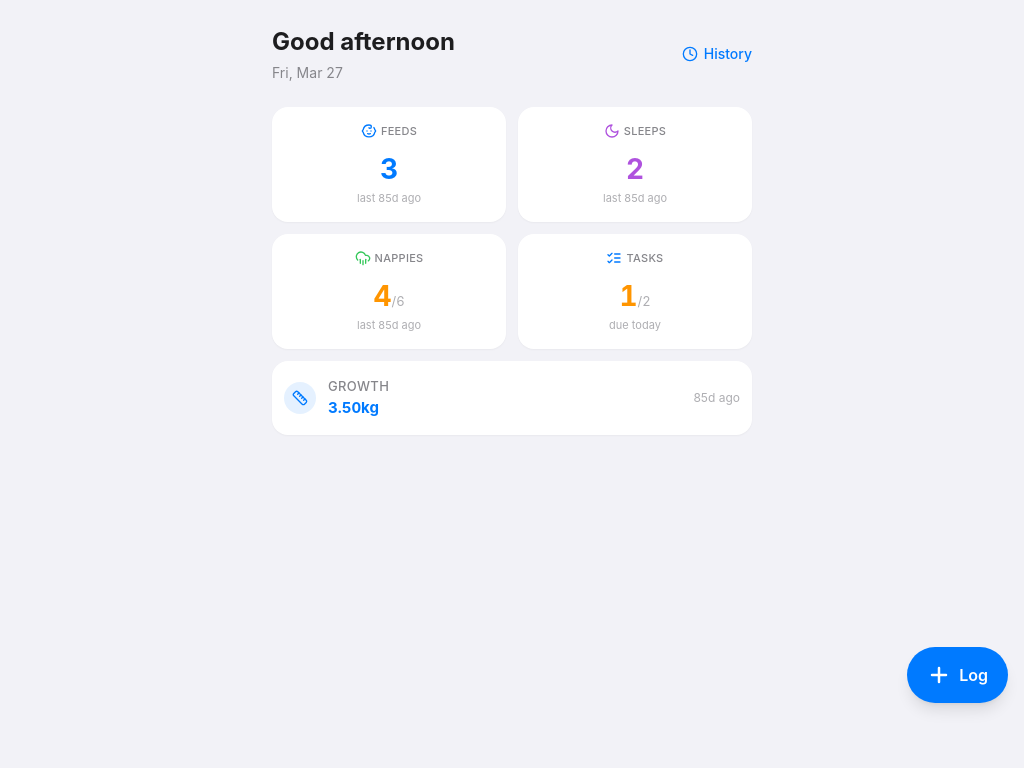
it: Dashboard › opens quick-add modal and starts sleep timer
Click the button "Log".
click(958, 675)  # box [907,647,1008,703]
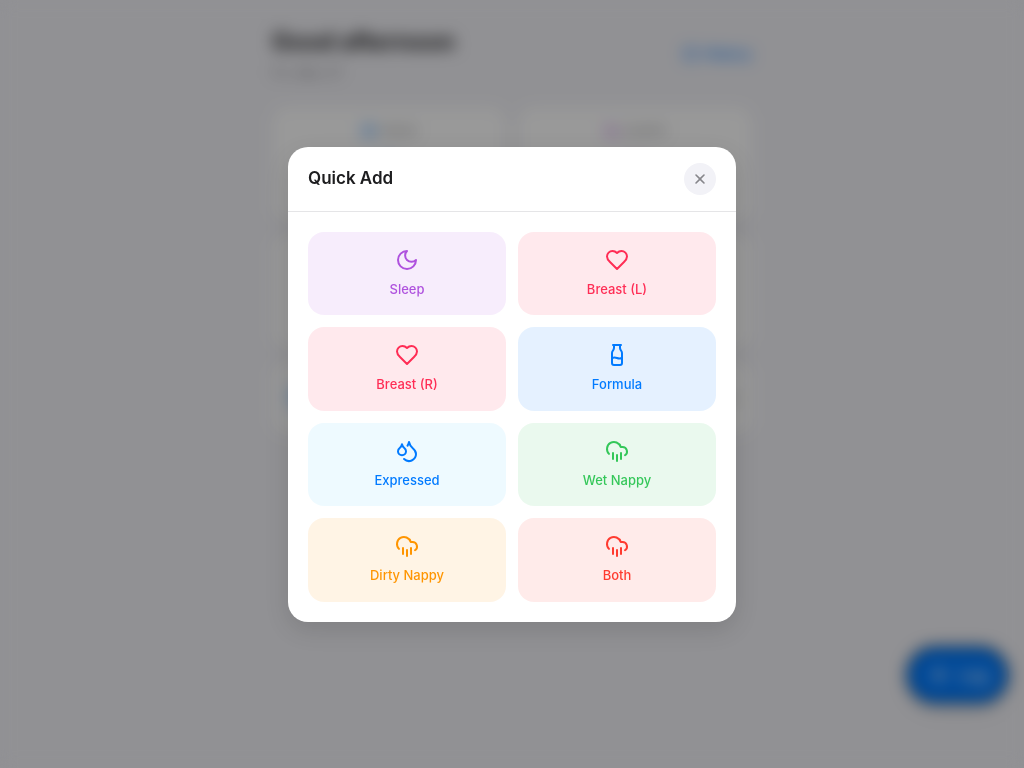
Click the button "Sleep".
click(407, 273)  # box [308,232,506,315]
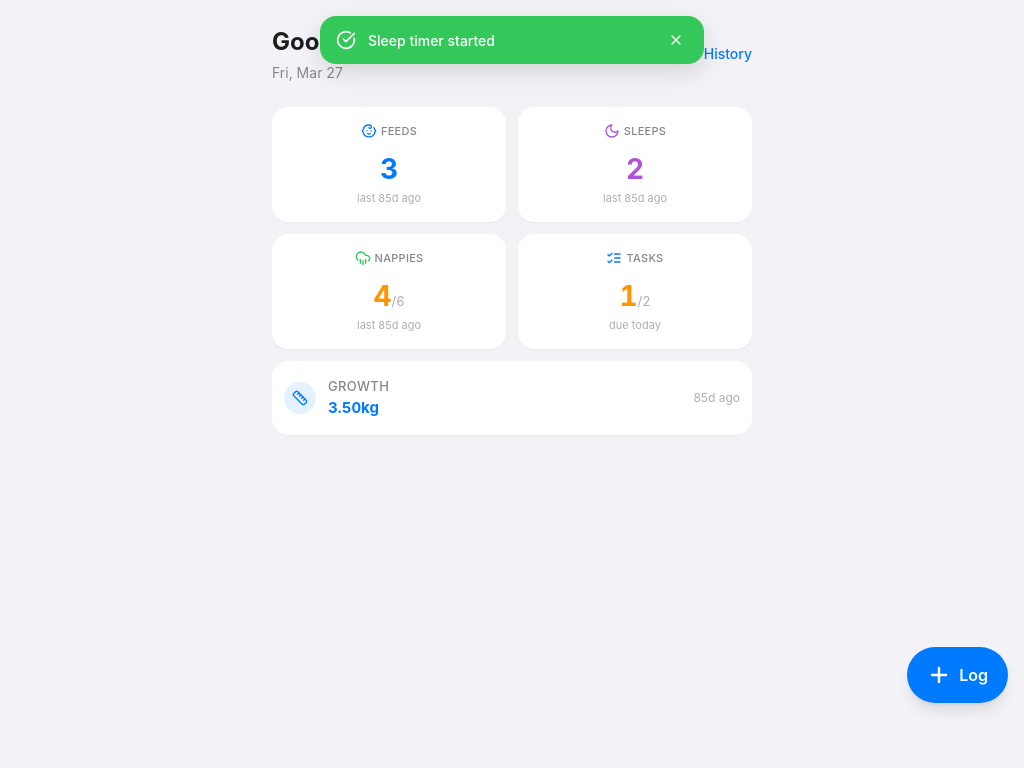
Now the text "Sleep timer started" is shown, box [368,32,495,48]
